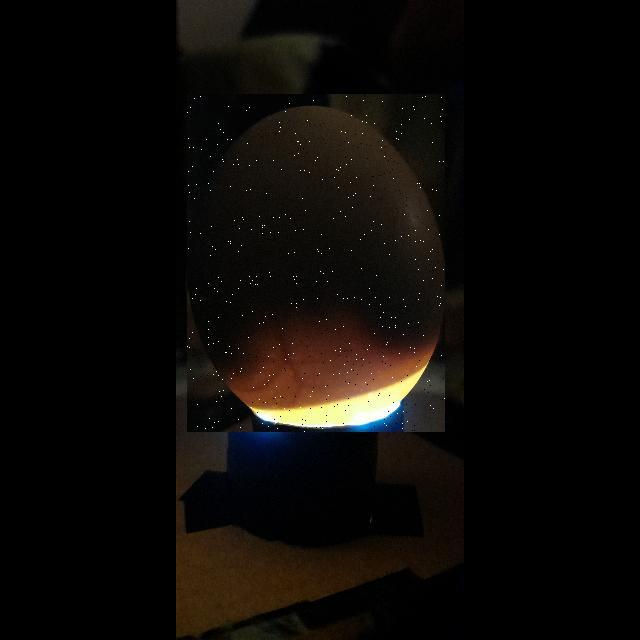Fertile: (187, 94, 445, 432)
